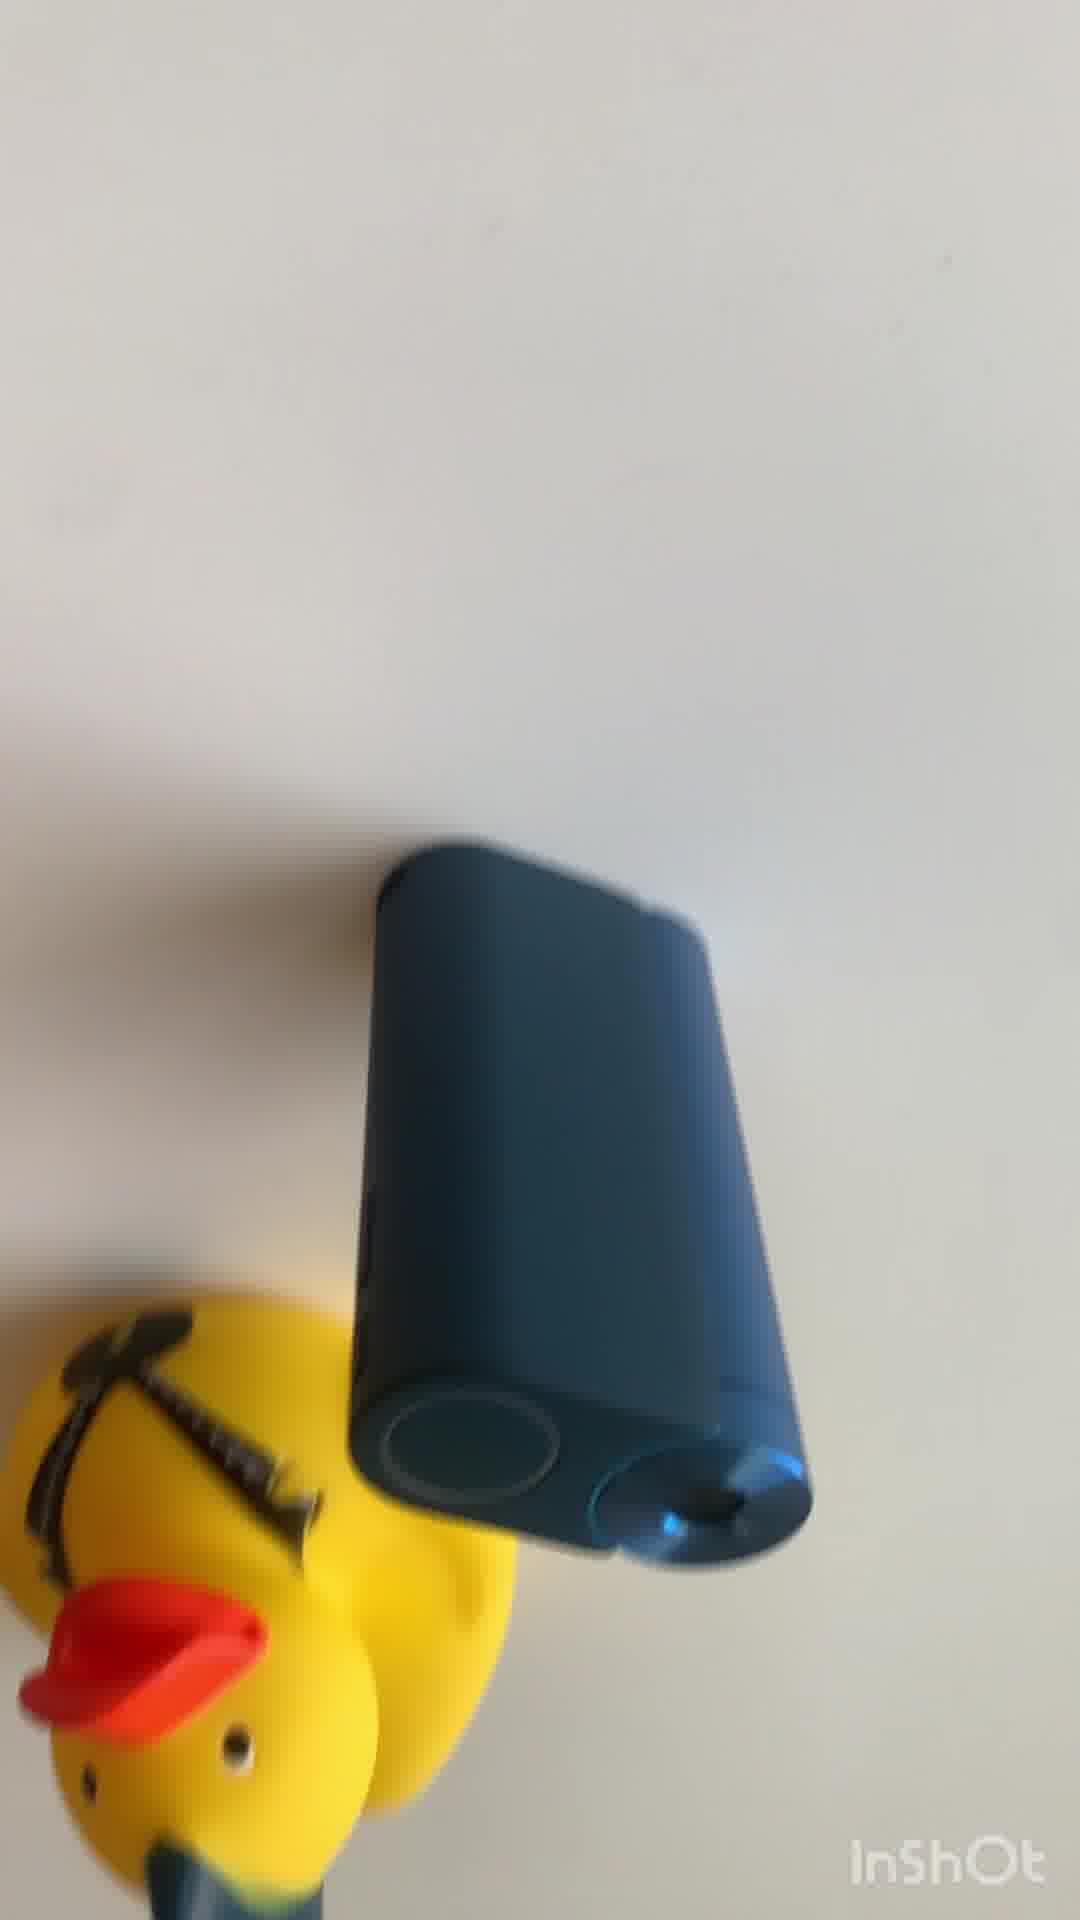duck: (1, 1287, 521, 1917)
glo: (345, 831, 822, 1585)
